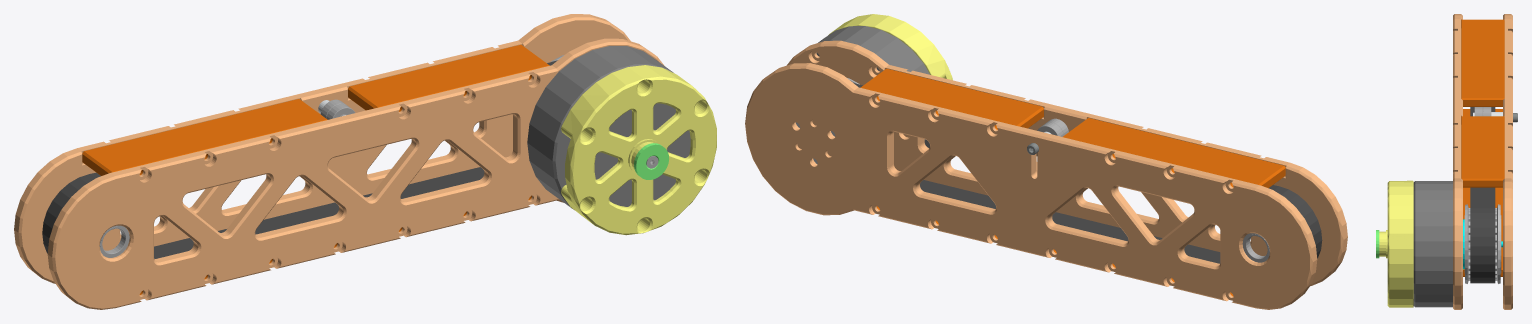
Rendered from arm_link.dae.
3 views of the same model, side by side, from view 1: azimuth 30°, elevation 25°; view 2: azimuth 150°, elevation 25°; view 3: azimuth 270°, elevation 25° (orthographic). The views are drawn at different scales.
Visible parts, largest first — view 1: node14, node16, node12, node9, node15, node18, node6, node11, node3; view 2: node16, node14, node15, node18, node6, node9, node12; view 3: node9, node15, node12, node18, node16, node14, node6, node5, node2, node7, node11.
Part boxes in pixels (bbox=[...]): node14: bbox=[47, 38, 664, 309]; node16: bbox=[14, 14, 630, 283]; node12: bbox=[561, 65, 716, 235]; node9: bbox=[527, 46, 690, 209]; node15: bbox=[82, 99, 327, 175]; node18: bbox=[348, 44, 549, 111]; node6: bbox=[42, 60, 557, 259]; node11: bbox=[634, 143, 668, 179]; node3: bbox=[99, 225, 129, 257]; node16: bbox=[745, 63, 1317, 309]; node14: bbox=[787, 40, 1347, 286]; node15: bbox=[1063, 118, 1285, 188]; node18: bbox=[860, 68, 1043, 129]; node6: bbox=[853, 83, 1322, 263]; node9: bbox=[816, 26, 929, 148]; node12: bbox=[828, 14, 952, 80]; node9: bbox=[1413, 181, 1452, 307]; node15: bbox=[1461, 19, 1504, 106]; node12: bbox=[1379, 180, 1413, 307]; node18: bbox=[1461, 116, 1504, 187]; node16: bbox=[1503, 14, 1512, 309]; node14: bbox=[1453, 14, 1462, 309]; node6: bbox=[1470, 107, 1495, 283]; node5: bbox=[1464, 204, 1501, 283]; node2: bbox=[1463, 109, 1502, 276]; node7: bbox=[1463, 219, 1502, 269]; node11: bbox=[1376, 230, 1379, 258].
Size of the model in its own units: 0.3215 by 0.085 by 0.0784.
